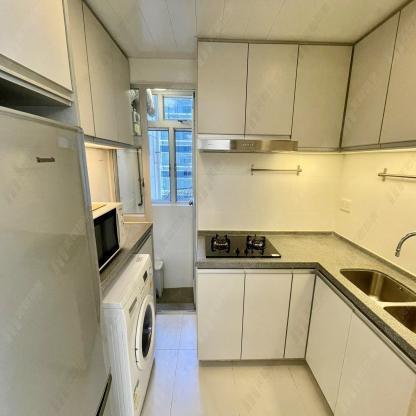Cupboard: (195, 0, 416, 152), (193, 270, 416, 416)
Exhaust Hood: (195, 138, 297, 154)
Fridge: (0, 103, 114, 416)
Microwave: (90, 200, 125, 273)
Sink: (336, 266, 416, 336)
Stove: (204, 232, 282, 260)
Washing Machine: (101, 251, 156, 416)
